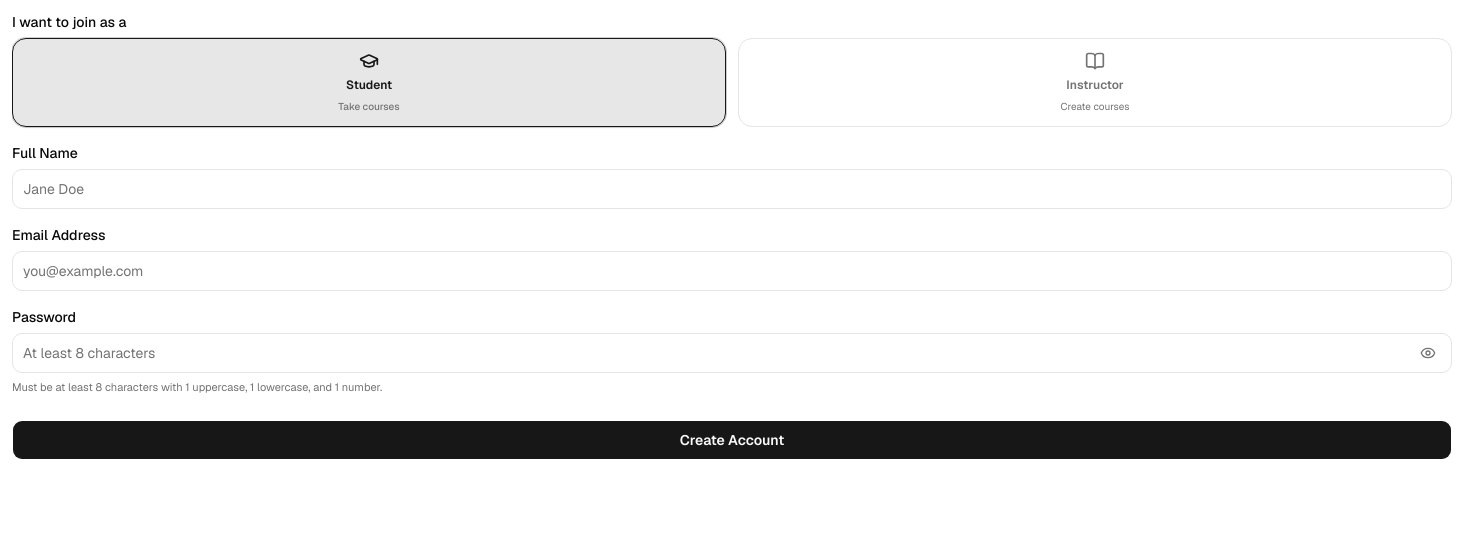
Test: SignUpForm Component › displays server error alert and toast when registration fails
Step 1. Type "Duplicate User" into the field labelled "Full Name" → x=732, y=189, box top-left (12, 169), bottom-right (1452, 209)
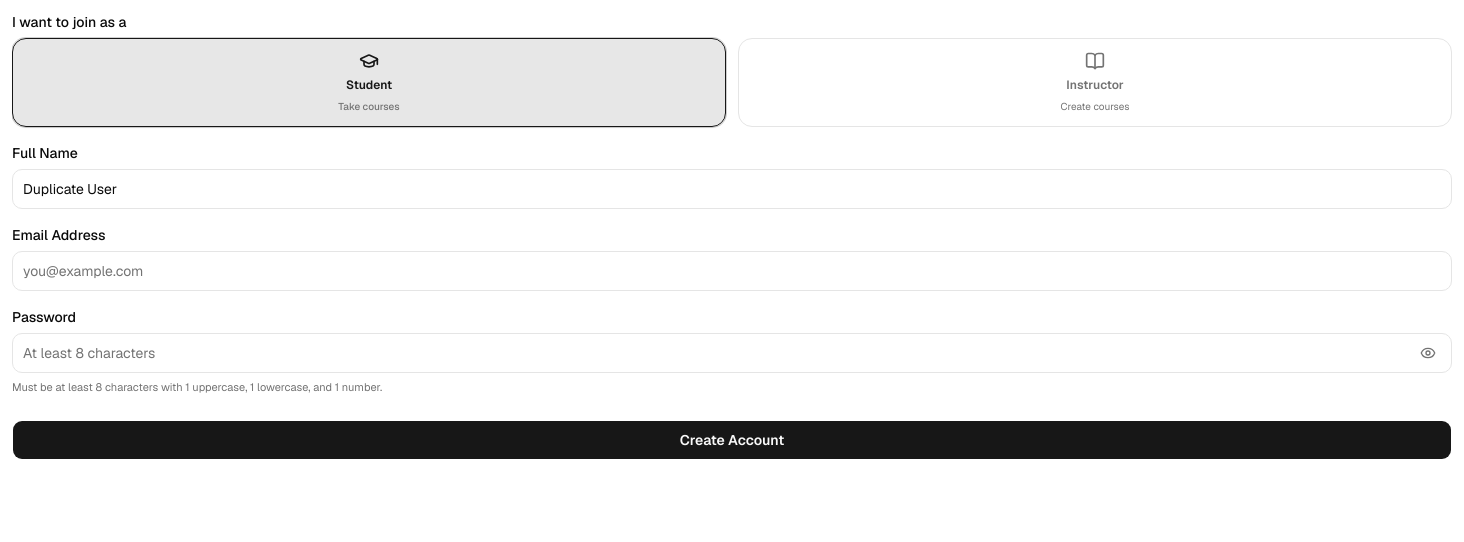
Step 2. Type "dup@example.com" into the field labelled "Email Address" → x=732, y=271, box top-left (12, 251), bottom-right (1452, 291)
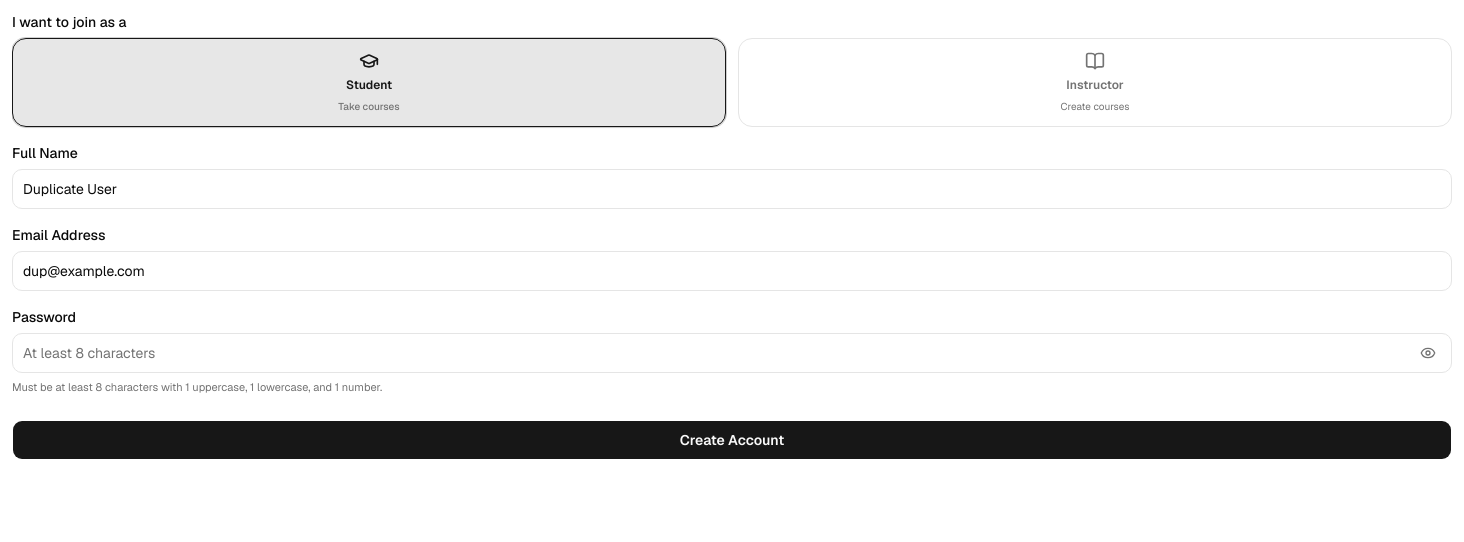
Step 3. Type "SecurePass123" into the password field with placeholder "At least 8 characters" → x=732, y=353, box top-left (12, 333), bottom-right (1452, 373)
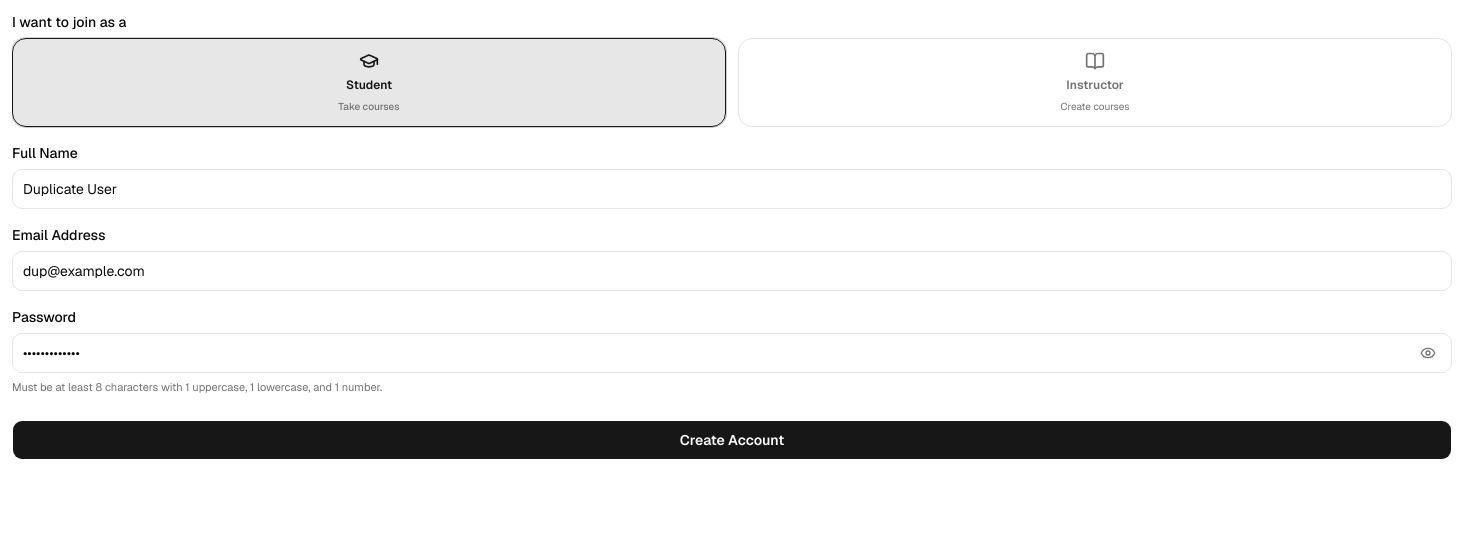
Step 4. Click the button "Create Account" → x=732, y=440, box top-left (12, 420), bottom-right (1452, 460)
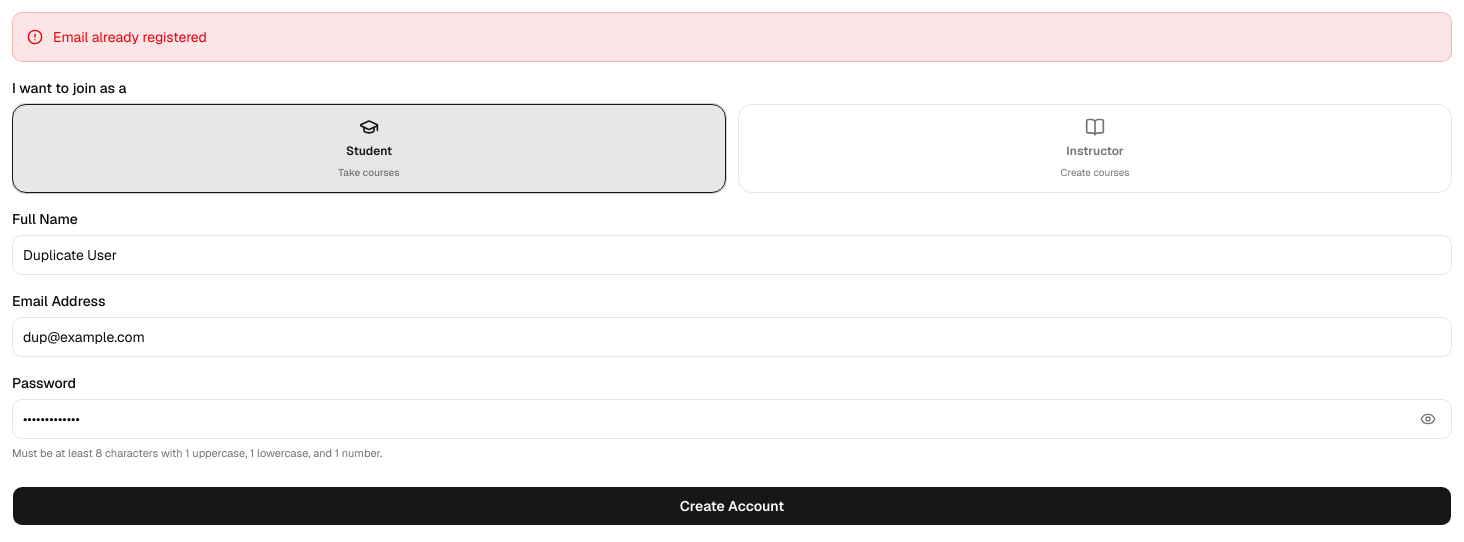
Check: the message reads "Email already registered", box top-left (53, 28), bottom-right (207, 46)
